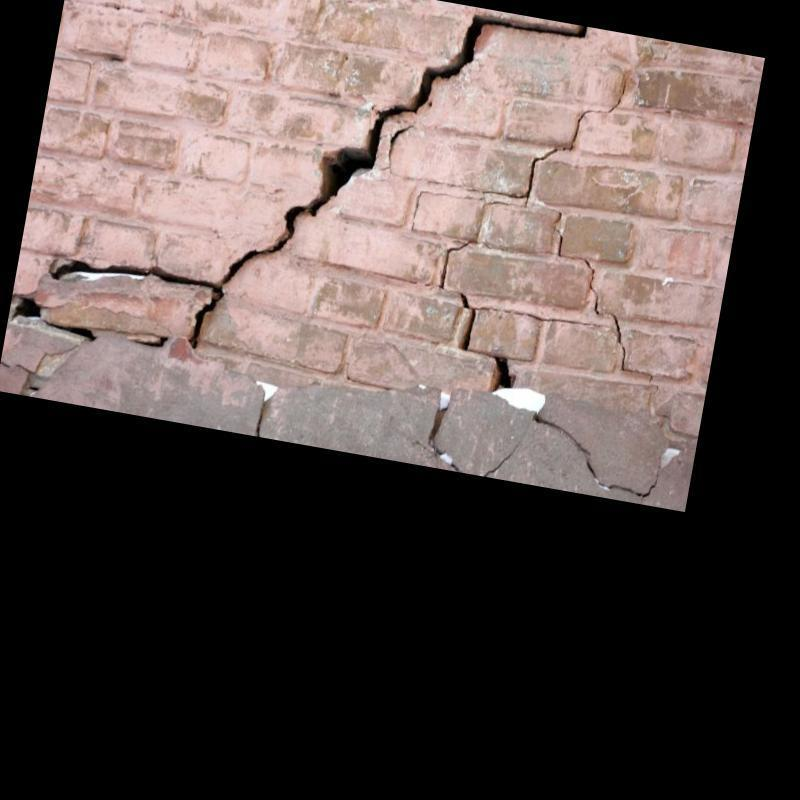crack: (50, 15, 589, 350), (483, 73, 631, 204), (458, 292, 600, 393), (533, 411, 663, 498), (553, 210, 605, 317), (610, 313, 654, 382), (381, 124, 414, 176), (439, 240, 472, 290), (482, 442, 520, 479), (42, 319, 97, 342), (11, 296, 41, 320), (252, 410, 266, 444), (129, 336, 168, 348), (26, 384, 42, 392)
